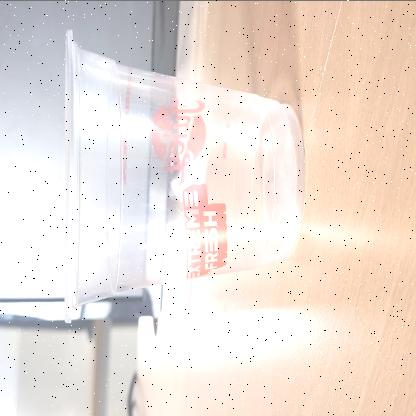Others: (63, 28, 307, 324)
